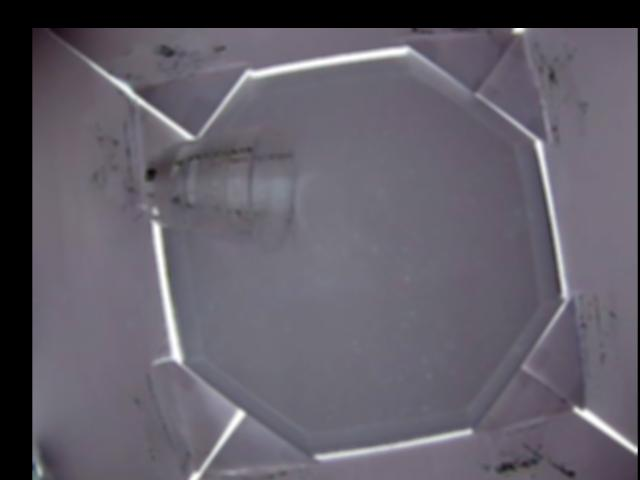Cup: (140, 127, 298, 255)
